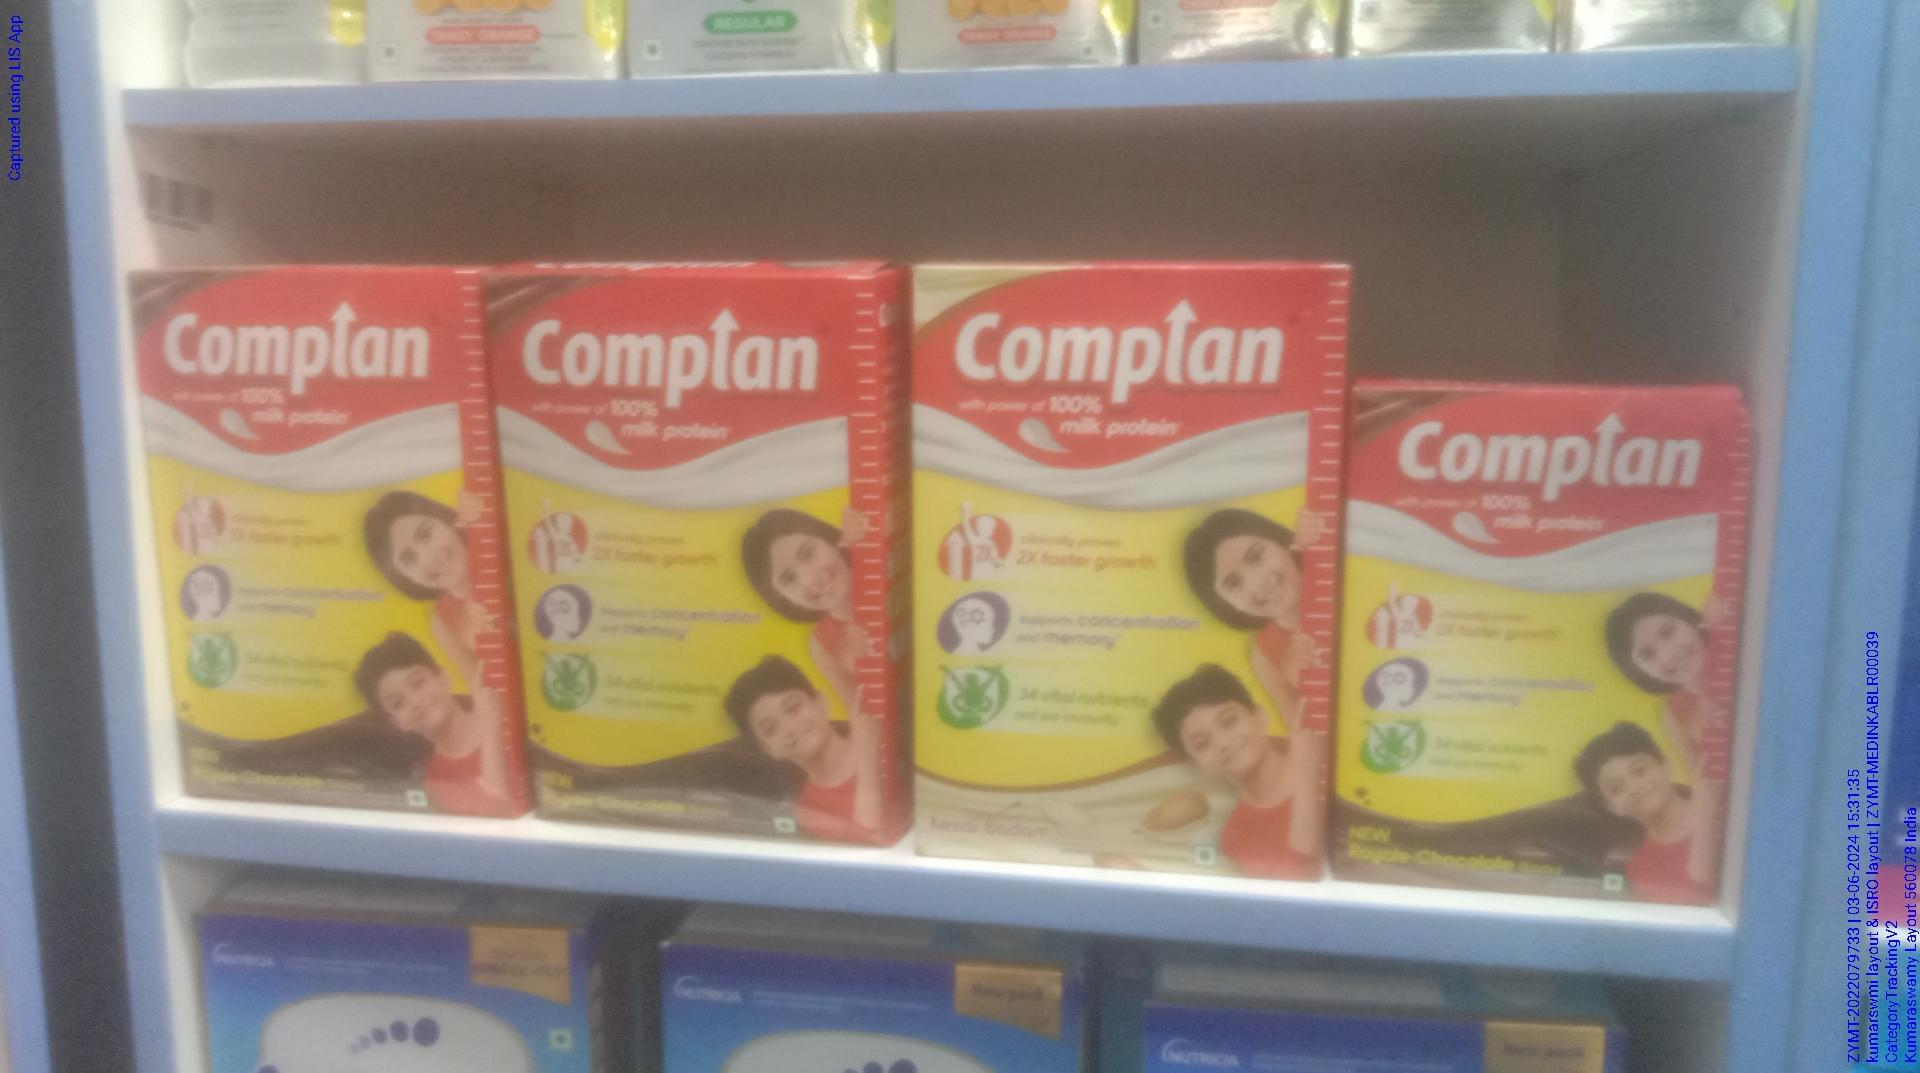COMPLAN_CHOCOLATE_200_GMS_PACK: (1346, 391, 1720, 906)
COMPLAN_CHOCOLATE_500_GMS_JAR: (506, 268, 893, 838), (133, 268, 498, 816)
COMPLAN_KESAR_BADAM_500_GMS_PACK: (906, 265, 1328, 882)
